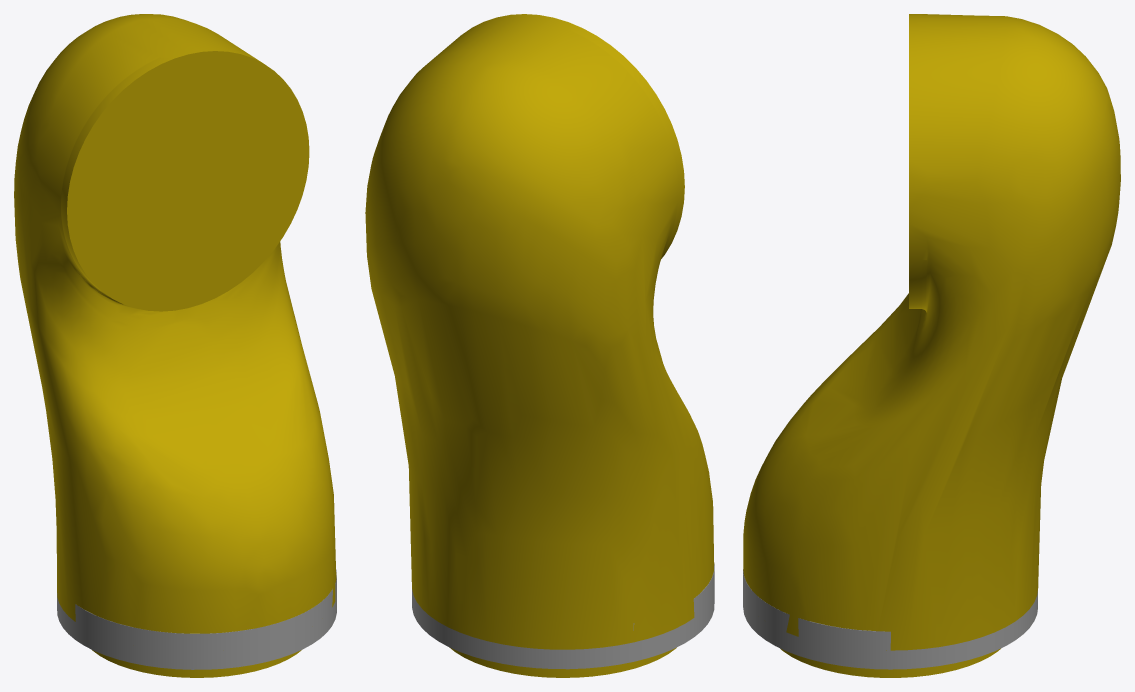
Rendered from LWR_Link1.dae.
3 renders of one model, left to right at view 1: azimuth 30°, elevation 25°; view 2: azimuth 150°, elevation 25°; view 3: azimuth 270°, elevation 25°, orthographic. The views are drawn at different scales.
Visible parts, largest first — view 1: Mesh_001, Mesh_003; view 2: Mesh_001, Mesh_003; view 3: Mesh_001, Mesh_003.
Boxes of the visible parts, x1,y1,x2,y2 form: Mesh_001: [14, 14, 336, 677]; Mesh_003: [57, 569, 336, 669]; Mesh_001: [365, 14, 714, 677]; Mesh_003: [412, 564, 714, 669]; Mesh_001: [743, 14, 1120, 677]; Mesh_003: [743, 569, 1037, 669].
Size of the model in its own units: 0.12 by 0.1536 by 0.2685.
